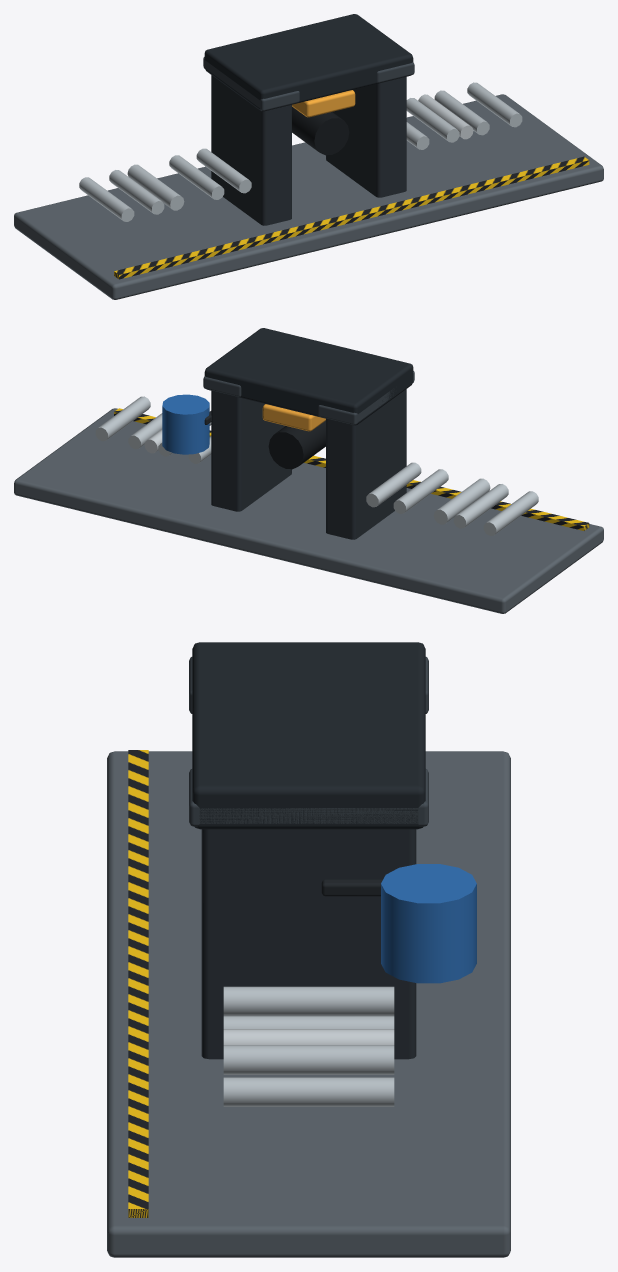
File: planer.glb
3 views of the same model, one above another, from view 1: azimuth 30°, elevation 25°; view 2: azimuth 150°, elevation 25°; view 3: azimuth 270°, elevation 25° (orthographic). The views are drawn at different scales.
Bounding box in the file's own units: 9 × 2.68 × 3.2.
Materials: 11 (1 with a texture image).
